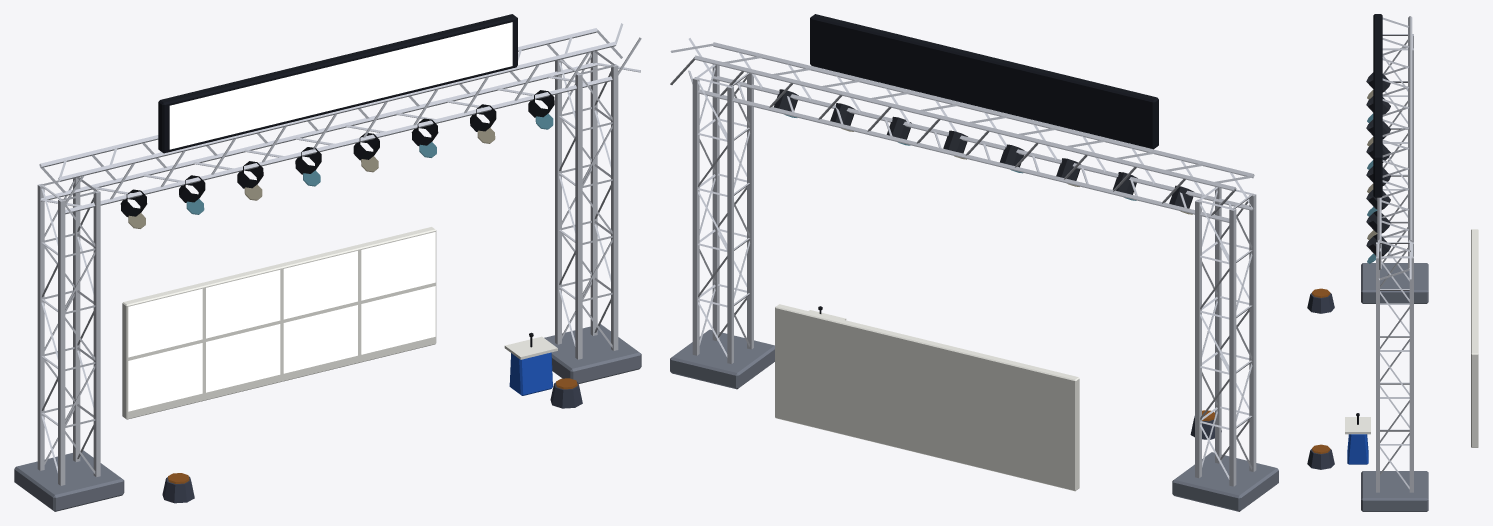
The model's file is podium.glb.
3 renders of one model, left to right at view 1: azimuth 30°, elevation 25°; view 2: azimuth 150°, elevation 25°; view 3: azimuth 270°, elevation 25°, orthographic. The views are drawn at different scales.
Parts seen in each view (by area): view 1: podium; view 2: podium; view 3: podium.
Boxes of the visible parts, x1,y1,x2,y2 form: podium: [14, 14, 641, 511]; podium: [670, 14, 1278, 511]; podium: [1307, 14, 1478, 511].
Bounding box in the file's own units: 18.51 × 11.1 × 5.58.
Materials: 4 (2 with a texture image).
